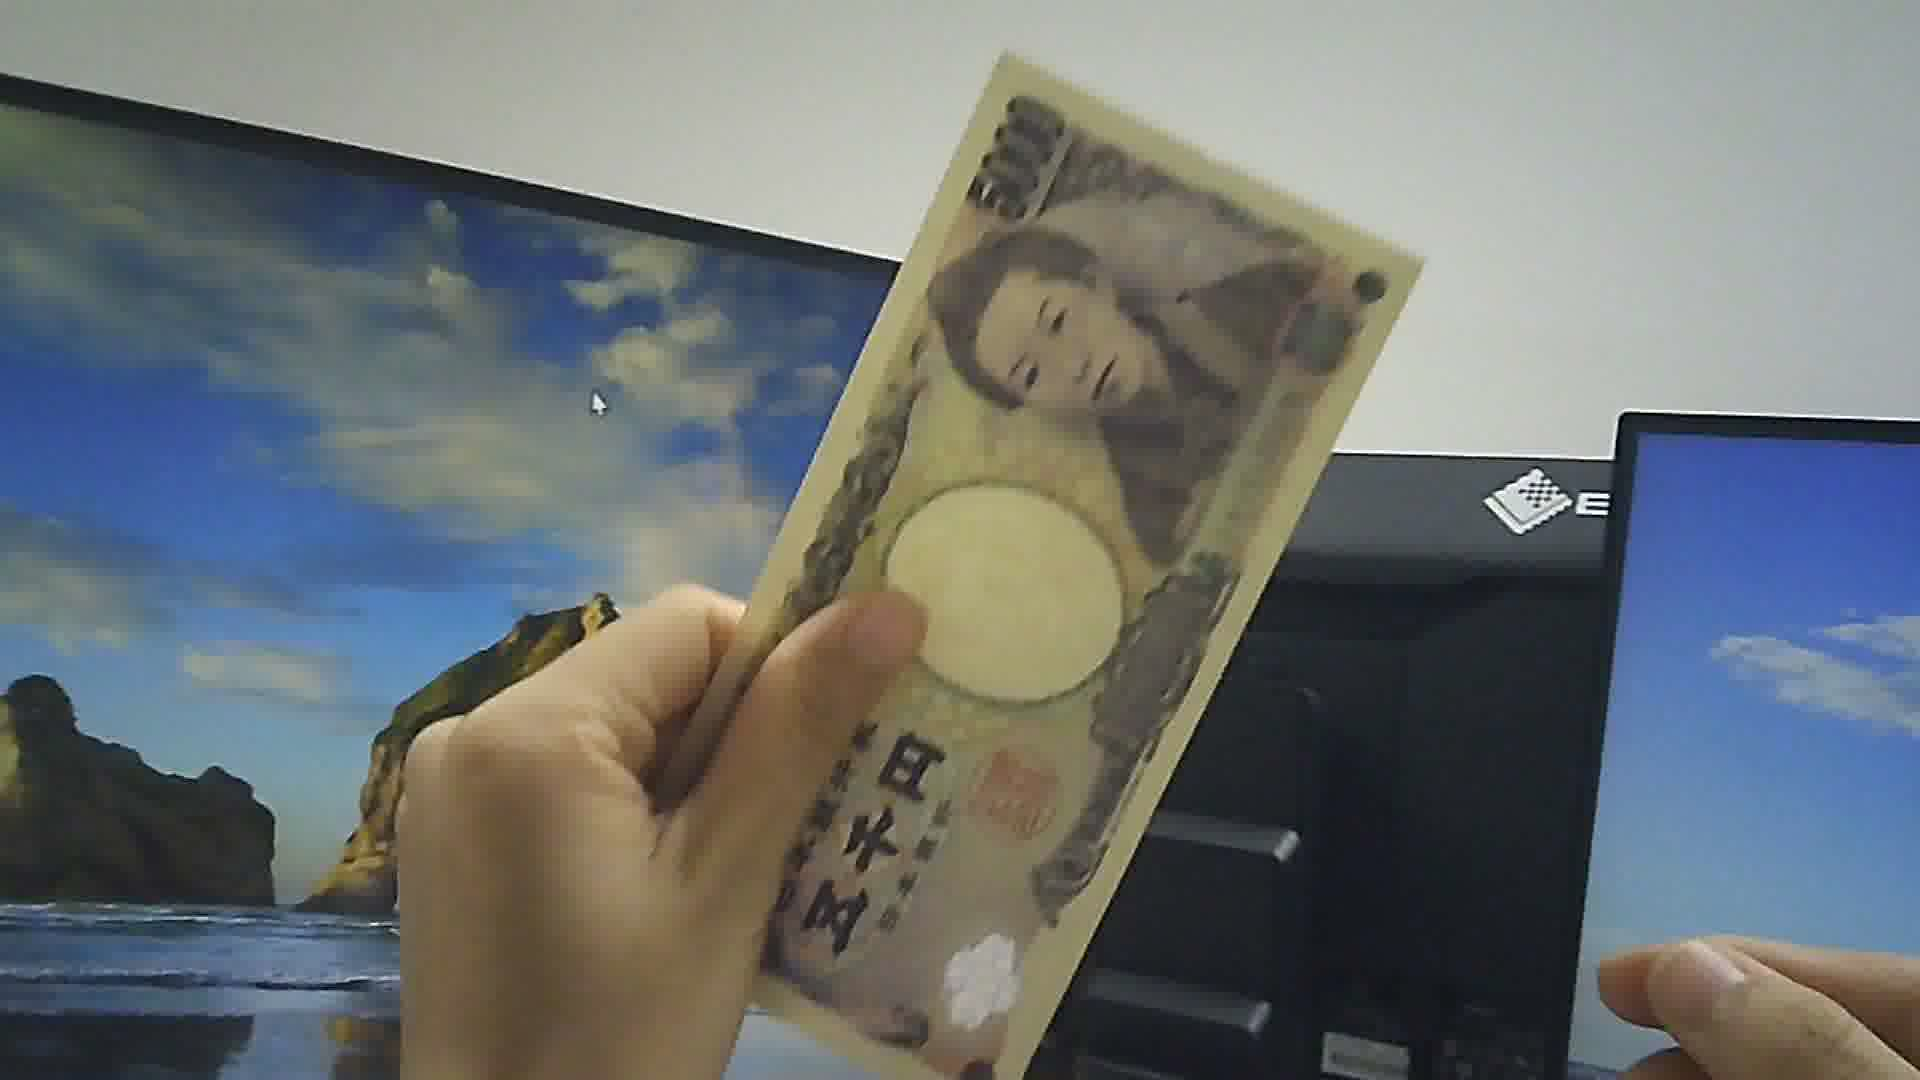5,000 Yen: (651, 46, 1395, 1079)
